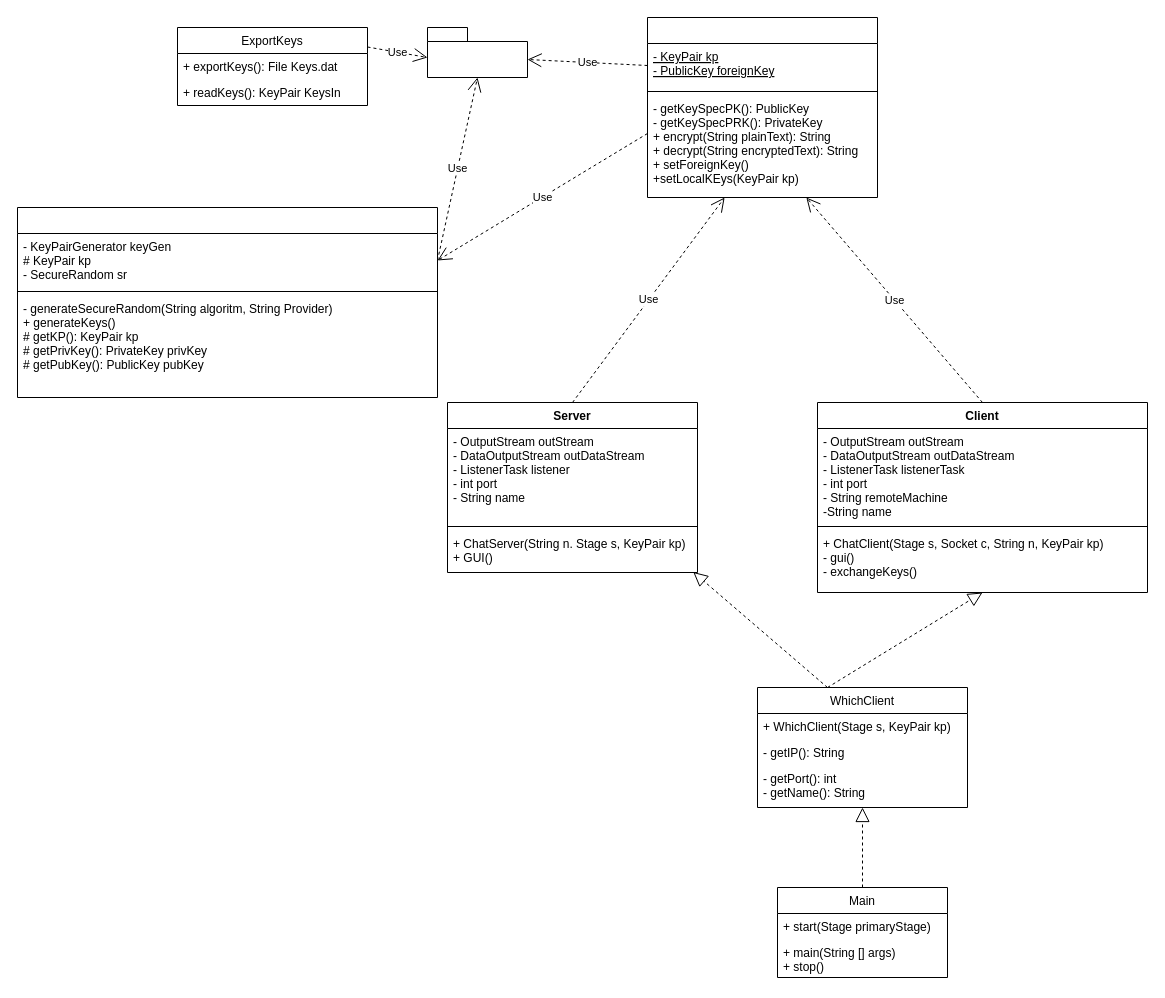
Some shapes in this 1165 by 998 pixel diagram are drawn without their labels. The shapes that lost their labels are listed below. From the top down, each one's box as (x1, y1, x2, y2) in pixels, then its label:
(426, 26, 528, 78): java.Security
(646, 16, 878, 198): Crypto
(16, 206, 438, 398): GenKeys
